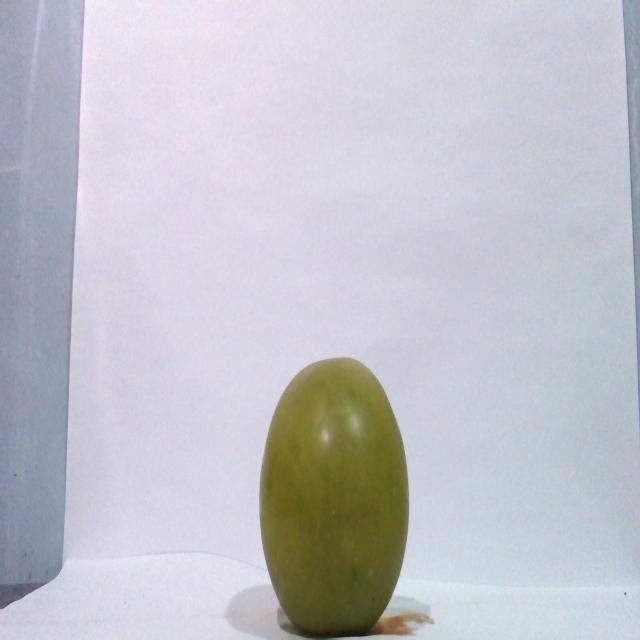Red: (257, 355, 410, 635)
